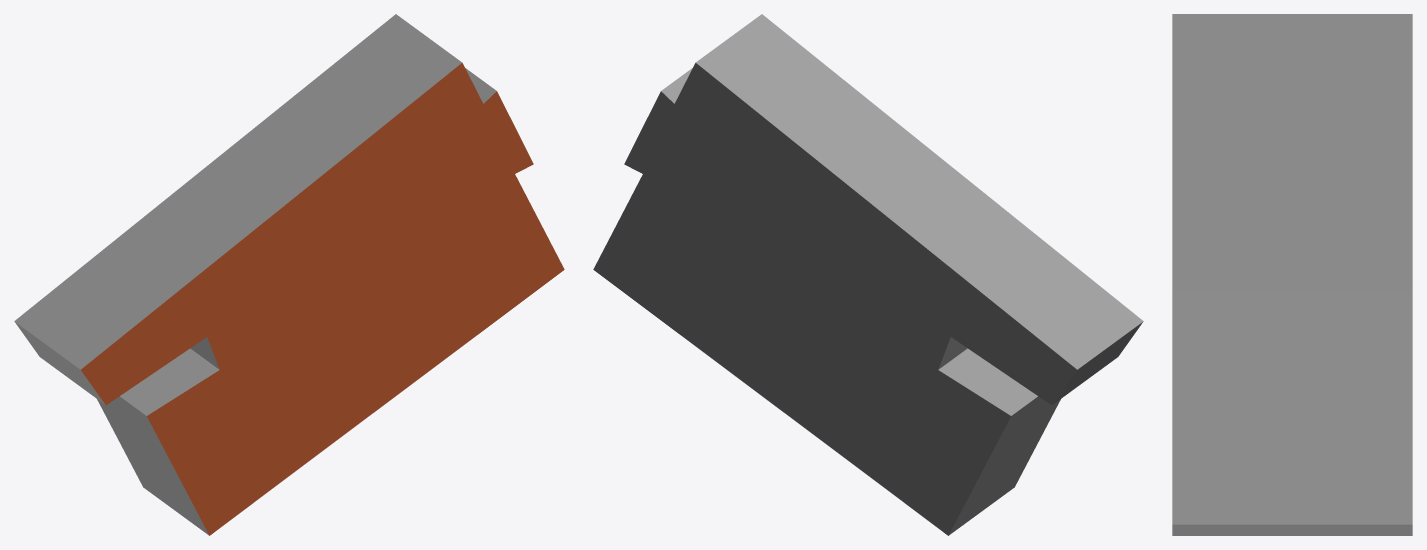
The model's file is construction_4094_assumed_A_Casa_h6m.obj.
The picture shows the model from 3 angles, left to right: view 1: azimuth 30°, elevation 25°; view 2: azimuth 150°, elevation 25°; view 3: azimuth 270°, elevation 25°; orthographic projection. The views are drawn at different scales.
Parts seen in each view (by area): view 1: construction_4094_assumed_A_Casa; view 2: construction_4094_assumed_A_Casa; view 3: construction_4094_assumed_A_Casa.
Part boxes in pixels (left/top/right/bottom): construction_4094_assumed_A_Casa: left=14, top=14, right=564, bottom=535; construction_4094_assumed_A_Casa: left=593, top=14, right=1143, bottom=535; construction_4094_assumed_A_Casa: left=1172, top=14, right=1412, bottom=535.
Size of the model in its own units: 25.26 by 20.53 by 6.
